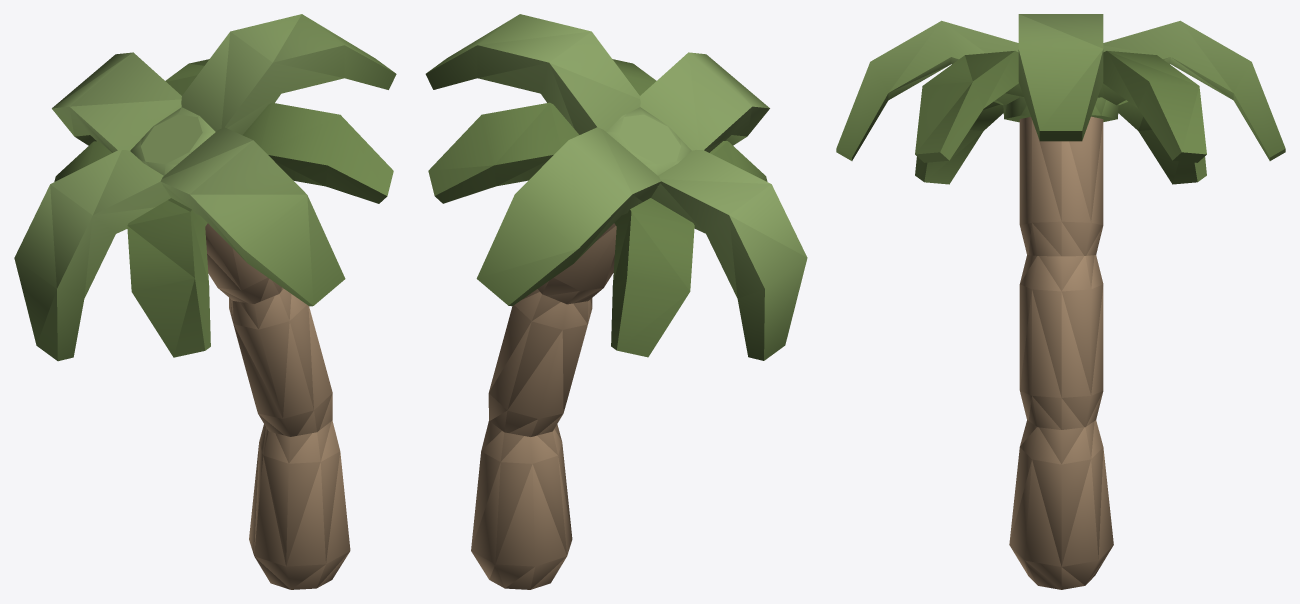
The model's file is K_Palm_Bend.glb.
3 renders of one model, left to right at view 1: azimuth 30°, elevation 25°; view 2: azimuth 150°, elevation 25°; view 3: azimuth 270°, elevation 25°, orthographic.
Parts seen in each view (by area): view 1: K_Palm_Bend; view 2: K_Palm_Bend; view 3: K_Palm_Bend.
Boxes of the visible parts, x1,y1,x2,y2 form: K_Palm_Bend: (14, 14, 396, 589); K_Palm_Bend: (425, 14, 807, 589); K_Palm_Bend: (836, 14, 1285, 589).
Size of the model in its own units: 6.1 by 9 by 6.81.
